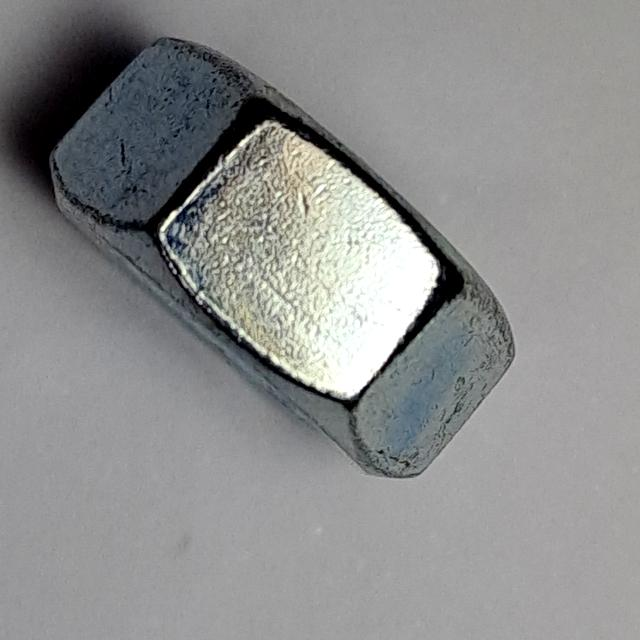Side_Excellent: (32, 25, 539, 492)
